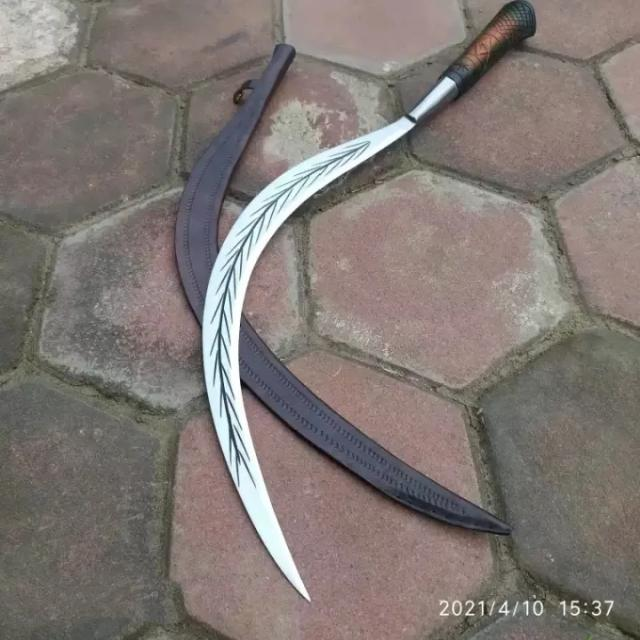Celurit: (204, 1, 540, 607)
